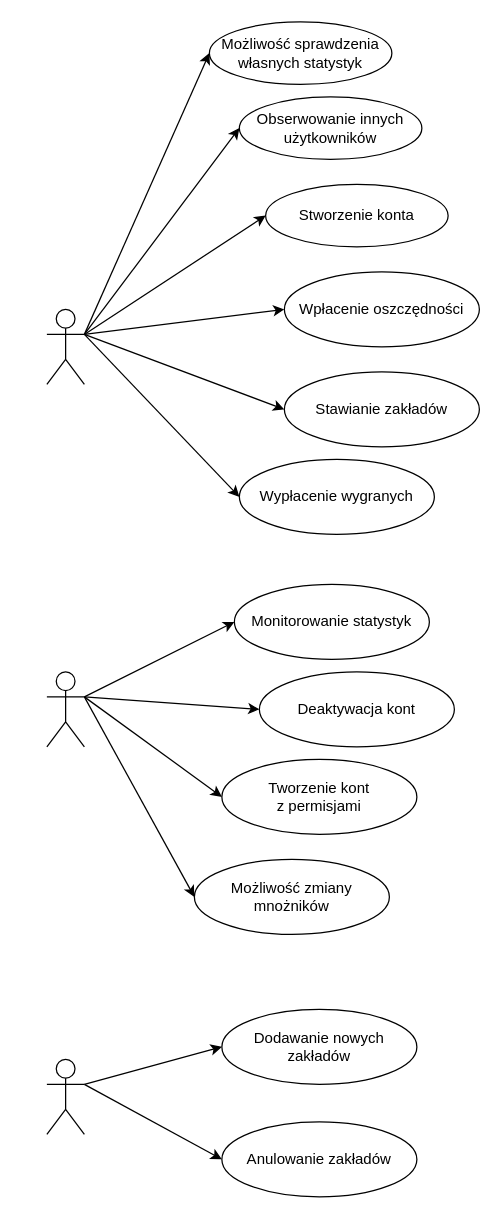
This 501x1219 diagram has some shape labels left out. Each missing label, with the box of its shape:
Administrator: (46, 671, 84, 747)
Pracownik: (46, 1058, 84, 1134)
Użytkownik: (46, 308, 84, 384)
